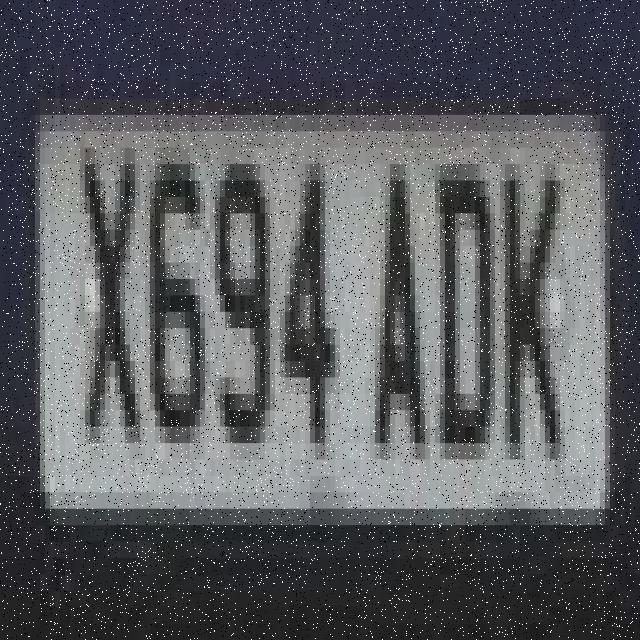licenseplate: (16, 41, 620, 594)
